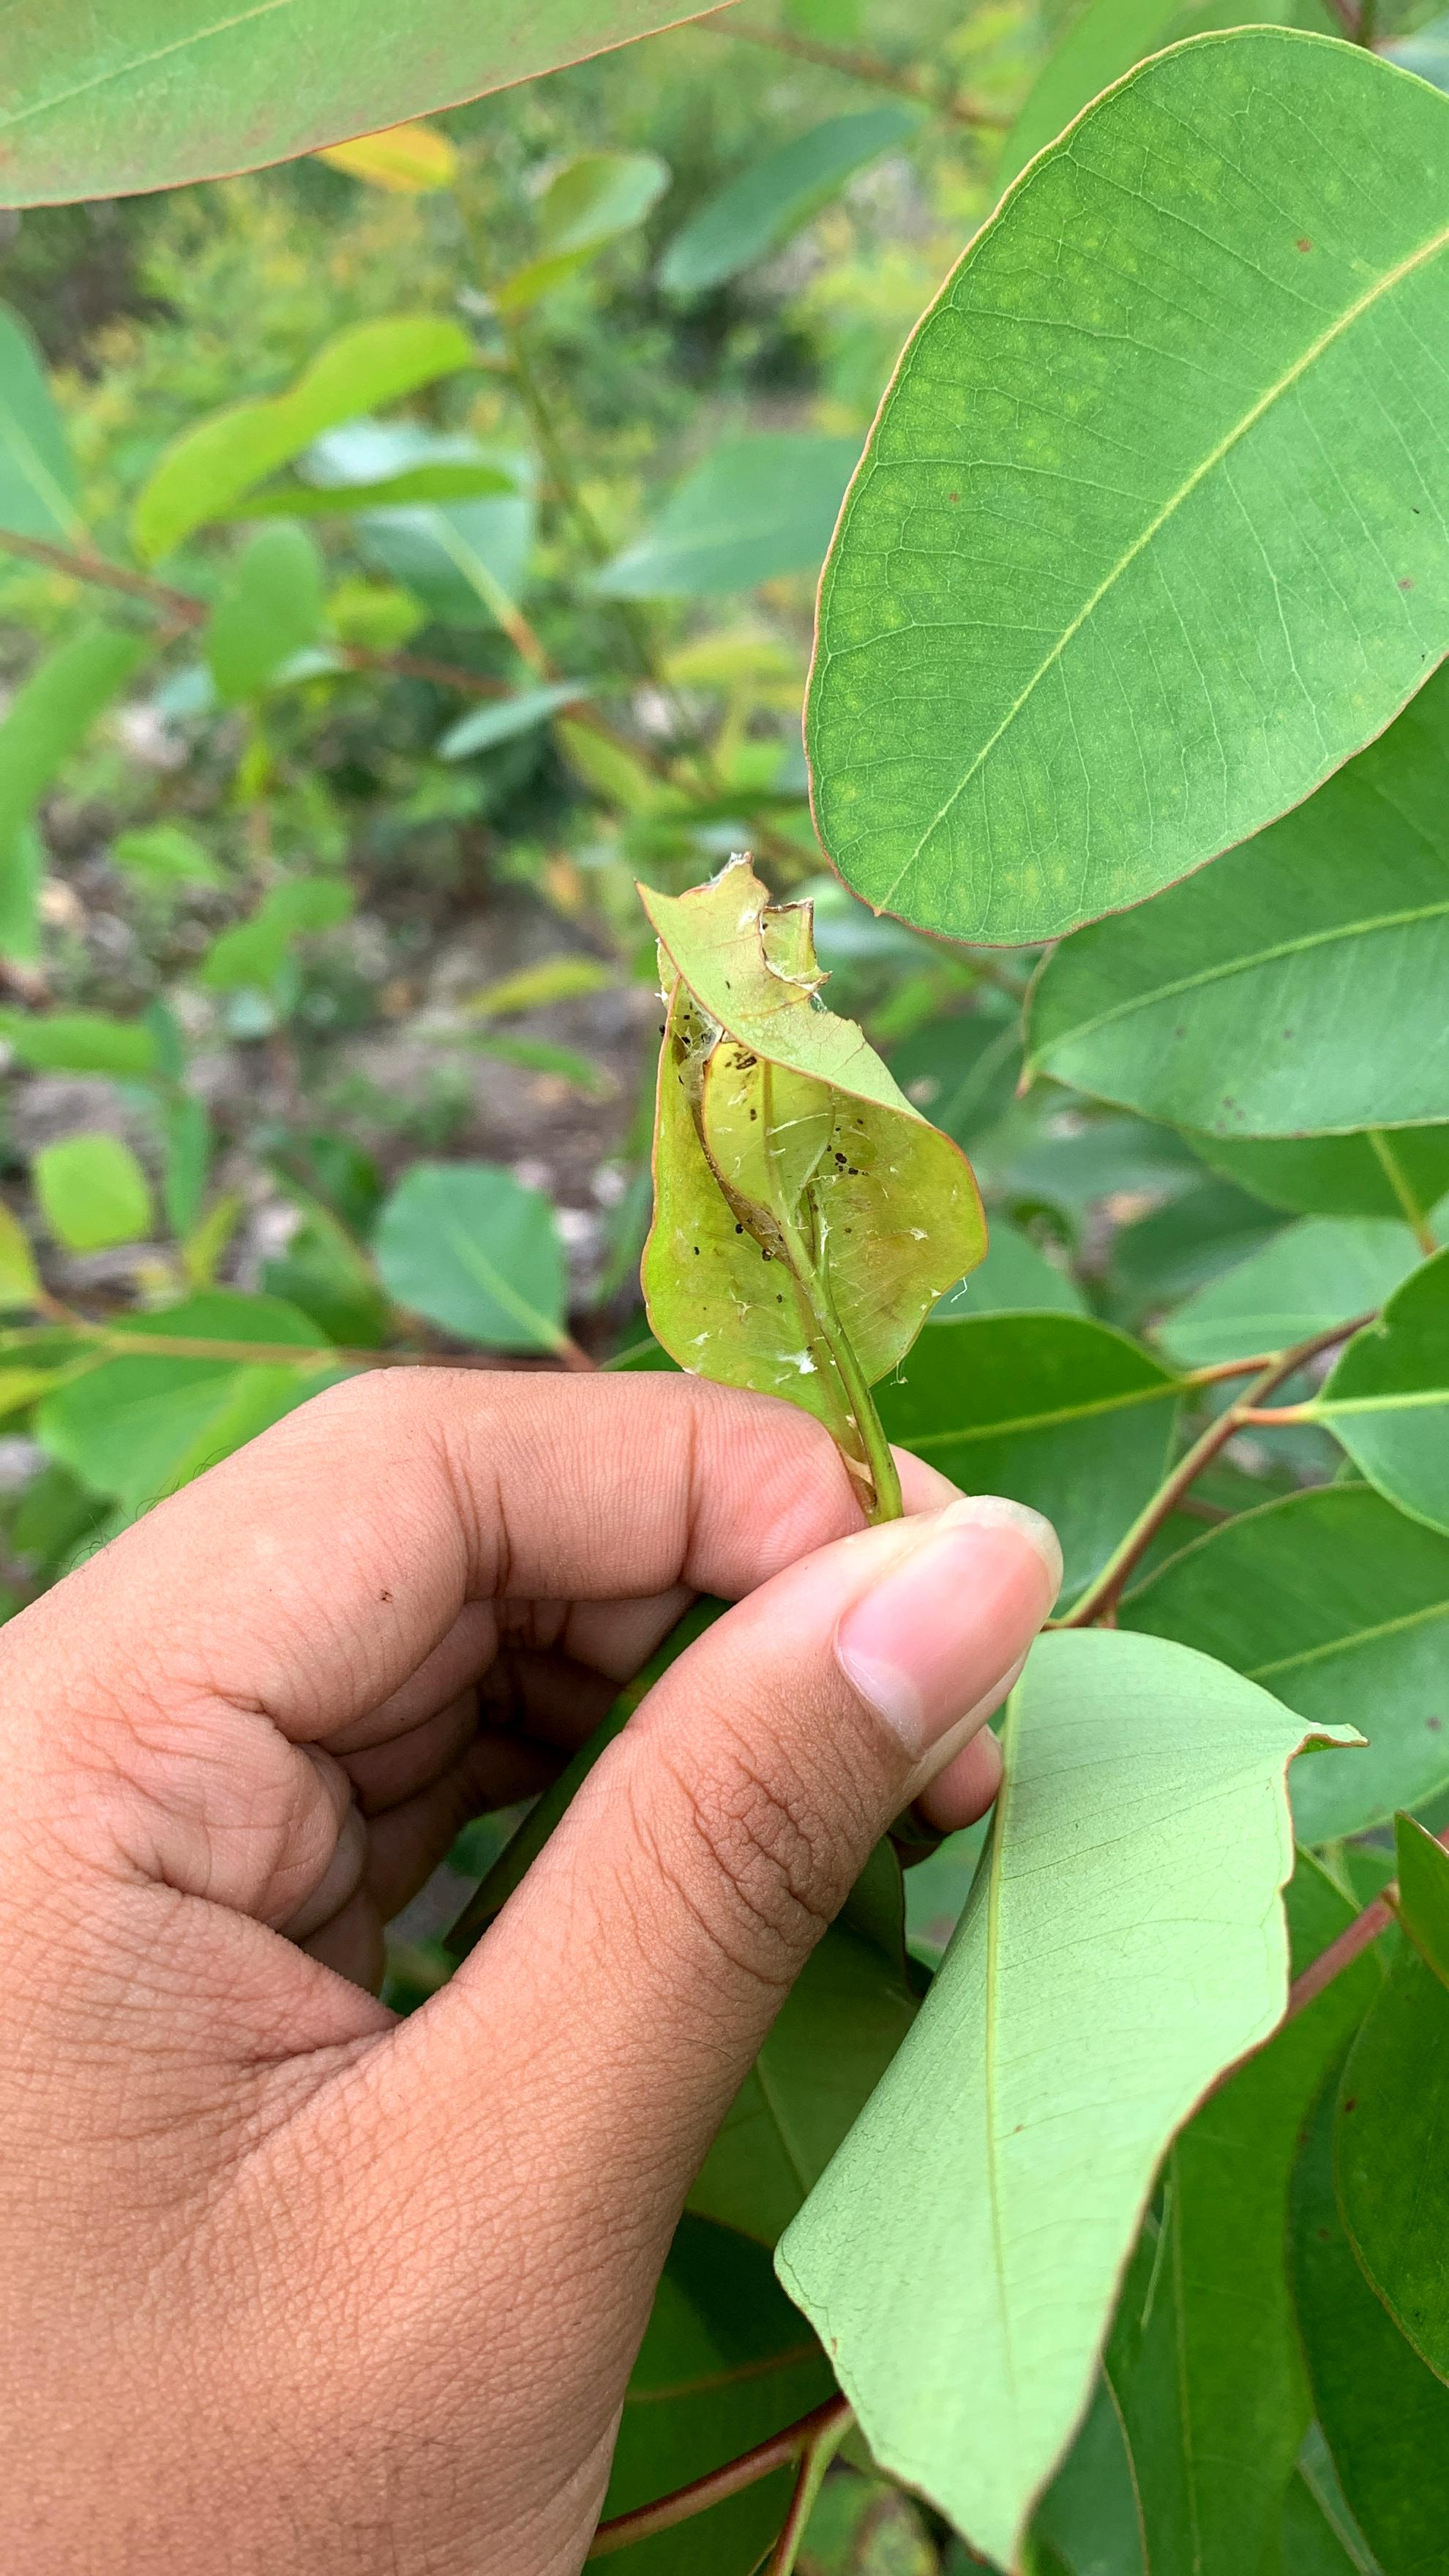Leaf Roller - Leaf: (594, 784, 1021, 1465)
